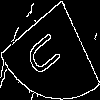U: (25, 25, 67, 80)
